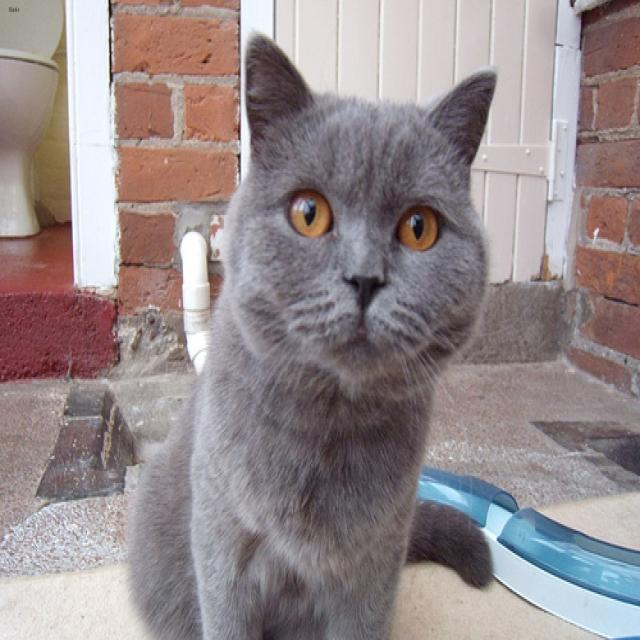British_Shorthair: (242, 34, 494, 377)
